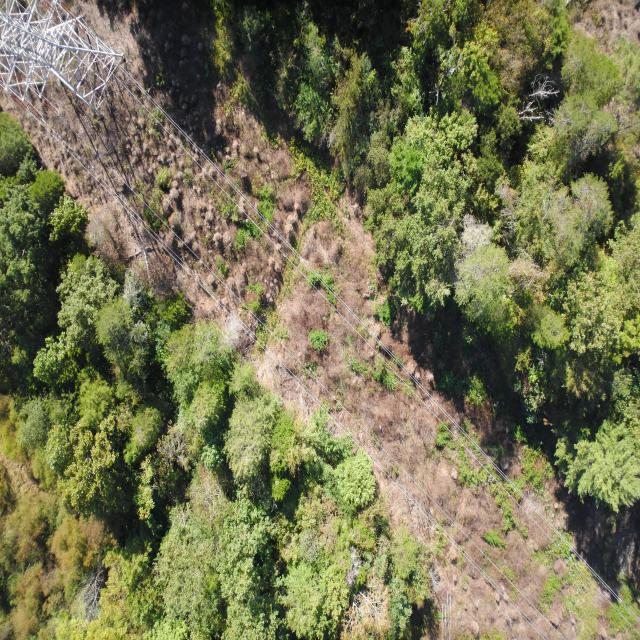Area of Interest: (3, 123, 429, 629), (242, 12, 629, 482)
